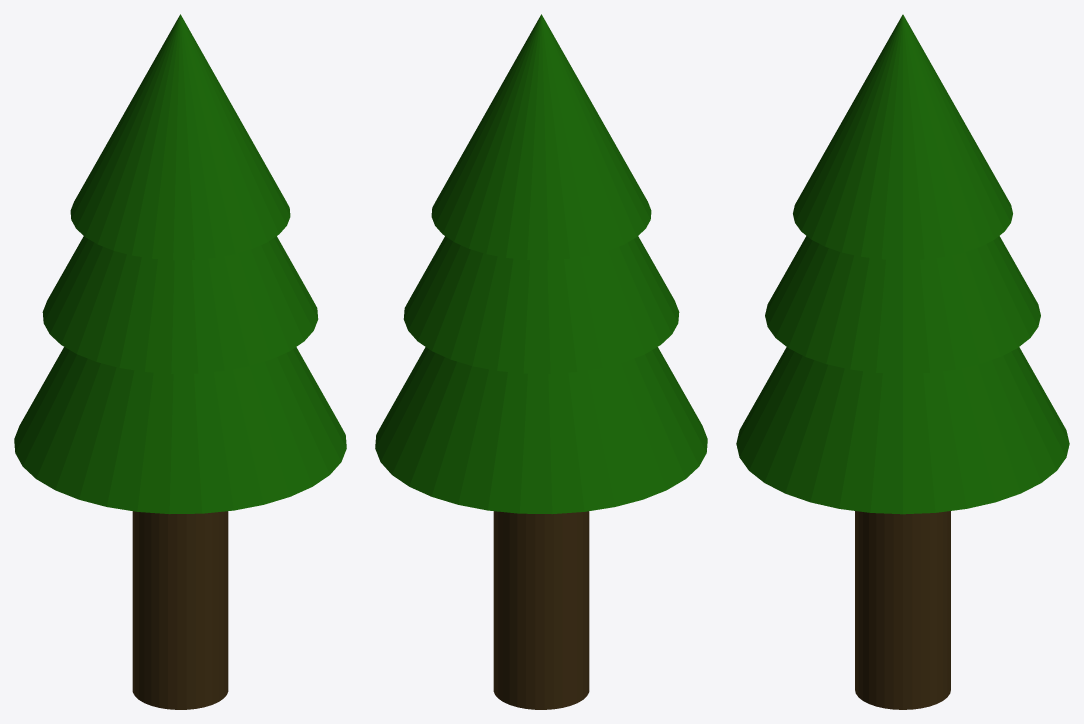
File: tree.glb
The picture shows the model from 3 angles, left to right: view 1: azimuth 30°, elevation 25°; view 2: azimuth 150°, elevation 25°; view 3: azimuth 270°, elevation 25°; orthographic projection.
Parts seen in each view (by area): view 1: Cone, Cone.002, Cone.001, Cylinder; view 2: Cone, Cone.002, Cone.001, Cylinder; view 3: Cone, Cone.002, Cone.001, Cylinder.
Part boxes in pixels (box(x1,y1,x2,y2)): Cone: box(14, 347, 346, 514); Cone.002: box(70, 14, 290, 260); Cone.001: box(42, 236, 318, 373); Cylinder: box(132, 511, 228, 709); Cone: box(375, 347, 707, 514); Cone.002: box(431, 14, 651, 260); Cone.001: box(403, 236, 679, 373); Cylinder: box(493, 511, 589, 709); Cone: box(736, 347, 1069, 514); Cone.002: box(793, 14, 1012, 260); Cone.001: box(765, 236, 1040, 373); Cylinder: box(855, 511, 950, 709).
Size of the model in its own units: 1.39 by 3.1 by 1.39.
